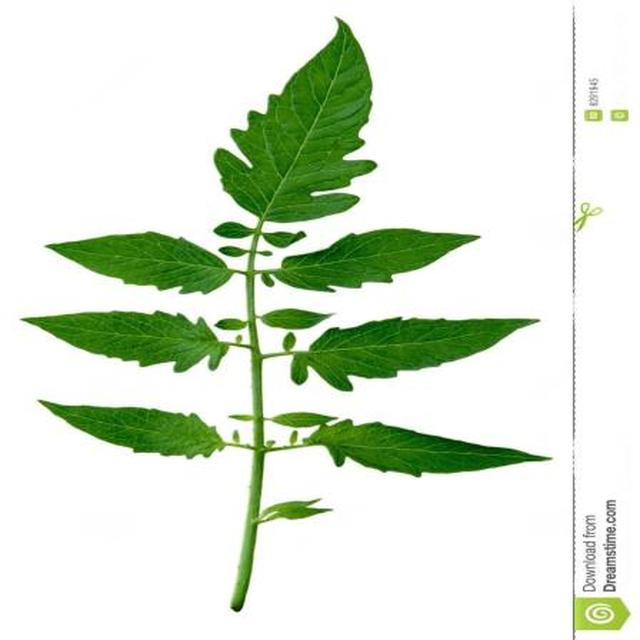Healthy Leaf: (176, 90, 612, 640)
